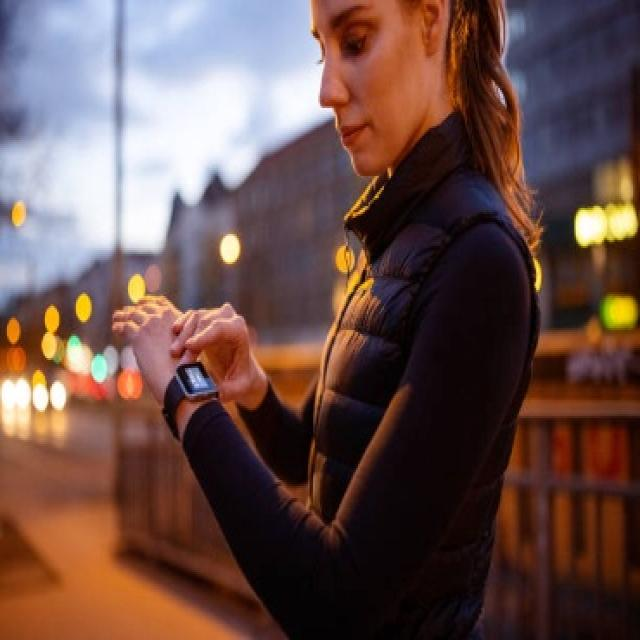adult: (115, 0, 540, 640)
